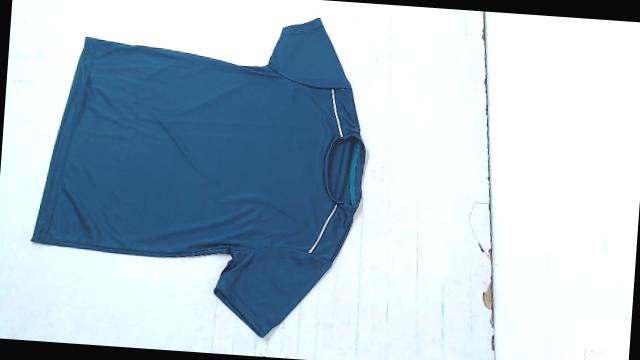new-garment: (31, 18, 364, 337)
